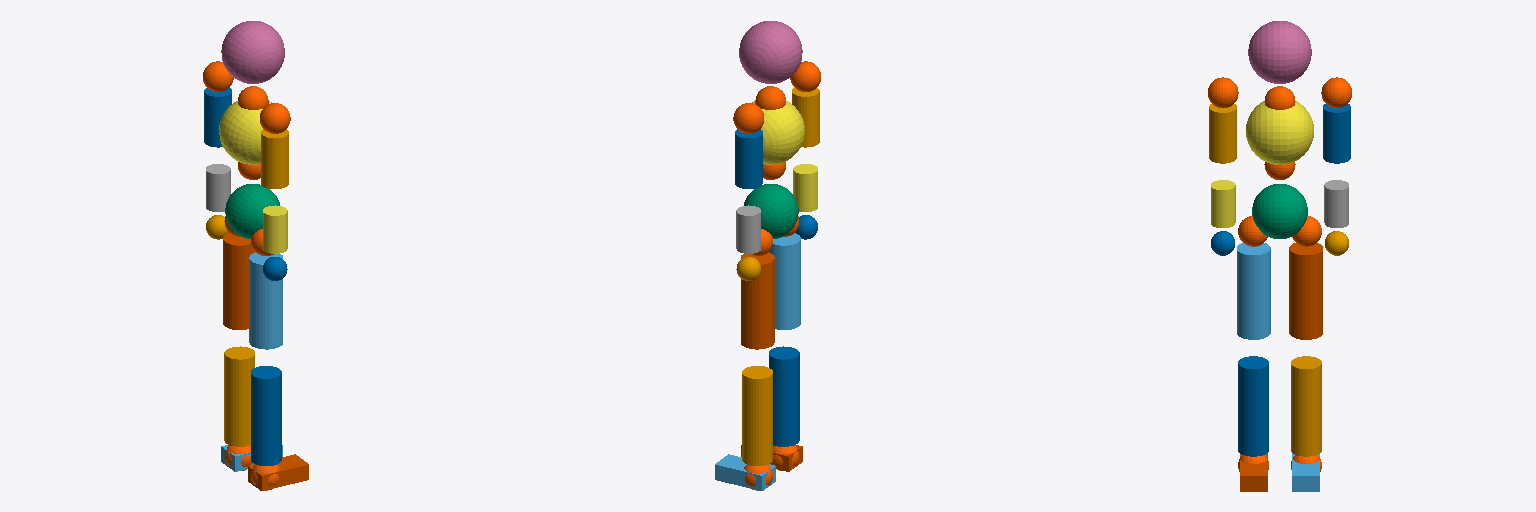
URDF robot description (dumpUrdf):
<?xml version="1.0" encoding="utf-8"?>
<!-- =================================================================================== -->
<!-- |    This document was autogenerated by xacro from humanoid.xacro                 | -->
<!-- |    EDITING THIS FILE BY HAND IS NOT RECOMMENDED                                 | -->
<!-- =================================================================================== -->
<robot name="dumpUrdf">
  <material name="orange">
    <color rgba="1.0 0.423529411765 0.0392156862745 1.0"/>
  </material>
  <link name="base_link">
    </link>
  <link name="base">
    </link>
  <joint name="base_base_link_rotation" type="fixed">
    <parent link="base_link"/>
    <child link="base"/>
    <origin rpy="1.57079632679 0 0" xyz="0 0 0"/>
  </joint>
  <link name="root">
    <inertial>
      <origin rpy="0 0 0" xyz="0.0 0.07 0.0"/>
      <mass value="6.000000"/>
      <inertia ixx="0.019440000000000002" ixy="0" ixz="0" iyy="0.019440000000000002" iyz="0" izz="0.019440000000000002"/>
    </inertial>
    <collision>
      <origin rpy="0 0 0" xyz="0.000000 0.070000 0.000000"/>
      <geometry>
        <sphere radius="0.09"/>
      </geometry>
    </collision>
    <visual>
      <origin rpy="0 0 0" xyz="0.000000 0.070000 0.000000"/>
      <geometry>
        <sphere radius="0.09"/>
      </geometry>
    </visual>
  </link>
  <joint name="root" type="fixed">
    <parent link="base"/>
    <child link="root"/>
    <origin rpy="0 0 0" xyz="0 0.000000 0.000000"/>
  </joint>
  <link name="chest">
    <inertial>
      <origin rpy="0 0 0" xyz="0.000000 0.120000 0.000000"/>
      <mass value="14.000000"/>
      <inertia ixx="0.06776000000000001" ixy="0" ixz="0" iyy="0.06776000000000001" iyz="0" izz="0.06776000000000001"/>
    </inertial>
    <collision>
      <origin rpy="0 0 0" xyz="0.000000 0.120000 0.000000"/>
      <geometry>
        <sphere radius="0.11"/>
      </geometry>
    </collision>
    <visual>
      <origin rpy="0 0 0" xyz="0.000000 0.120000 0.000000"/>
      <geometry>
        <sphere radius="0.11"/>
      </geometry>
    </visual>
  </link>
  <link name="root_chest_link1">
    <inertial>
      <mass value="1e-02"/>
      <inertia ixx="1e-02" ixy="0" ixz="0" iyy="1e-02" iyz="0" izz="1e-02"/>
    </inertial>
  </link>
  <joint name="root_chest_joint1" type="revolute">
    <origin rpy="0 0 0" xyz="0.000000 0.236151 0.000000"/>
    <parent link="root"/>
    <child link="root_chest_link1"/>
    <axis xyz="1 0 0"/>
    <limit effort="200" lower="-1.2" upper="1.2" velocity="3"/>
  </joint>
  <link name="root_chest_link2">
    <inertial>
      <mass value="1e-02"/>
      <inertia ixx="1e-02" ixy="0" ixz="0" iyy="1e-02" iyz="0" izz="1e-02"/>
    </inertial>
    <visual>
      <geometry>
        <sphere radius="0.05"/>
      </geometry>
      <material name="orange"/>
    </visual>
  </link>
  <joint name="root_chest_joint2" type="revolute">
    <parent link="root_chest_link1"/>
    <child link="root_chest_link2"/>
    <axis xyz="0 1 0"/>
    <limit effort="200" lower="-1.2" upper="1.2" velocity="3"/>
  </joint>
  <joint name="root_chest_joint3" type="revolute">
    <parent link="root_chest_link2"/>
    <child link="chest"/>
    <axis xyz="0 0 1"/>
    <limit effort="200" lower="-1.2" upper="1.2" velocity="3"/>
  </joint>
  <link name="neck">
    <inertial>
      <origin rpy="0 0 0" xyz="0.0 0.175 0.0"/>
      <mass value="2.000000"/>
      <inertia ixx="0.008405" ixy="0" ixz="0" iyy="0.008405" iyz="0" izz="0.008405"/>
    </inertial>
    <collision>
      <origin rpy="0 0 0" xyz="0.0 0.175 0.0"/>
      <geometry>
        <sphere radius="0.1025"/>
      </geometry>
    </collision>
    <visual>
      <origin rpy="0 0 0" xyz="0.0 0.175 0.0"/>
      <geometry>
        <sphere radius="0.1025"/>
      </geometry>
    </visual>
  </link>
  <link name="chest_neck_link1">
    <inertial>
      <mass value="1e-02"/>
      <inertia ixx="1e-02" ixy="0" ixz="0" iyy="1e-02" iyz="0" izz="1e-02"/>
    </inertial>
  </link>
  <joint name="chest_neck_joint1" type="revolute">
    <origin rpy="0 0 0" xyz="0.000000 0.223894 0.000000"/>
    <parent link="chest"/>
    <child link="chest_neck_link1"/>
    <axis xyz="1 0 0"/>
    <limit effort="50" lower="-1" upper="1" velocity="3"/>
  </joint>
  <link name="chest_neck_link2">
    <inertial>
      <mass value="1e-02"/>
      <inertia ixx="1e-02" ixy="0" ixz="0" iyy="1e-02" iyz="0" izz="1e-02"/>
    </inertial>
    <visual>
      <geometry>
        <sphere radius="0.05"/>
      </geometry>
      <material name="orange"/>
    </visual>
  </link>
  <joint name="chest_neck_joint2" type="revolute">
    <parent link="chest_neck_link1"/>
    <child link="chest_neck_link2"/>
    <axis xyz="0 1 0"/>
    <limit effort="50" lower="-1" upper="1" velocity="3"/>
  </joint>
  <joint name="chest_neck_joint3" type="revolute">
    <parent link="chest_neck_link2"/>
    <child link="neck"/>
    <axis xyz="0 0 1"/>
    <limit effort="50" lower="-1" upper="1" velocity="3"/>
  </joint>
  <link name="right_hip">
    <inertial>
      <origin rpy="0 0 0" xyz="0.000000 -0.210000 0.000000"/>
      <mass value="4.500000"/>
      <inertia ixx="0.037153124999999995" ixy="0.0" ixz="0.0" iyy="0.037153124999999995" iyz="0.0" izz="0.00680625"/>
    </inertial>
    <collision>
      <origin rpy="1.57079632679 0 0" xyz="0.000000 -0.210000 0.000000"/>
      <geometry>
        <cylinder length="0.225" radius="0.0275"/>
      </geometry>
    </collision>
    <visual>
      <origin rpy="1.57079632679 0 0" xyz="0.000000 -0.210000 0.000000"/>
      <geometry>
        <cylinder length="0.3" radius="0.055"/>
      </geometry>
    </visual>
  </link>
  <link name="root_right_hip_link1">
    <inertial>
      <mass value="1e-02"/>
      <inertia ixx="1e-02" ixy="0" ixz="0" iyy="1e-02" iyz="0" izz="1e-02"/>
    </inertial>
  </link>
  <joint name="root_right_hip_joint1" type="revolute">
    <origin rpy="0 0 0" xyz="0.000000 0.000000 0.084887"/>
    <parent link="root"/>
    <child link="root_right_hip_link1"/>
    <axis xyz="1 0 0"/>
    <limit effort="200" lower="-1.5" upper="1.5" velocity="3"/>
  </joint>
  <link name="root_right_hip_link2">
    <inertial>
      <mass value="1e-02"/>
      <inertia ixx="1e-02" ixy="0" ixz="0" iyy="1e-02" iyz="0" izz="1e-02"/>
    </inertial>
    <visual>
      <geometry>
        <sphere radius="0.05"/>
      </geometry>
      <material name="orange"/>
    </visual>
  </link>
  <joint name="root_right_hip_joint2" type="revolute">
    <parent link="root_right_hip_link1"/>
    <child link="root_right_hip_link2"/>
    <axis xyz="0 1 0"/>
    <limit effort="200" lower="-1.5" upper="1.5" velocity="3"/>
  </joint>
  <joint name="root_right_hip_joint3" type="revolute">
    <parent link="root_right_hip_link2"/>
    <child link="right_hip"/>
    <axis xyz="0 0 1"/>
    <limit effort="200" lower="-1.5" upper="1.5" velocity="3"/>
  </joint>
  <link name="right_knee">
    <inertial>
      <origin rpy="0 0 0" xyz="0.000000 -0.200000 0.000000"/>
      <mass value="3.000000"/>
      <inertia ixx="0.1" ixy="0" ixz="0" iyy="0.1" iyz="0" izz="0.1"/>
    </inertial>
    <collision>
      <origin rpy="1.57079632679 0 0" xyz="0.000000 -0.200000 0.000000"/>
      <geometry>
        <cylinder length="0.2325" radius="0.025"/>
      </geometry>
    </collision>
    <visual>
      <origin rpy="1.57079632679 0 0" xyz="0.000000 -0.200000 0.000000"/>
      <geometry>
        <cylinder length="0.31" radius="0.05"/>
      </geometry>
    </visual>
  </link>
  <joint name="right_knee" type="revolute">
    <parent link="right_hip"/>
    <child link="right_knee"/>
    <limit effort="150.0" lower="-3.14" upper="0." velocity="0.5"/>
    <origin rpy="0 0 0" xyz="0.000000 -0.421546 0.000000"/>
    <axis xyz="0.000000 0.000000 1.000000"/>
  </joint>
  <link name="right_ankle">
    <inertial>
      <origin rpy="0 0 0" xyz="0.045 -0.00225 0.000000"/>
      <mass value="1.000000"/>
      <inertia ixx="0.0009270833333333333" ixy="0.0" ixz="0.0" iyy="0.0028628333333333327" iyz="0.0" izz="0.003285749999999999"/>
    </inertial>
    <collision>
      <origin rpy="0 0 0" xyz="0.045 -0.00225 0.000000"/>
      <geometry>
        <box size="0.177 0.055 0.09"/>
      </geometry>
    </collision>
    <visual>
      <origin rpy="0 0 0" xyz="0.045 -0.00225 0.000000"/>
      <geometry>
        <box size="0.177 0.055 0.09"/>
      </geometry>
    </visual>
  </link>
  <link name="right_knee_right_ankle_link1">
    <inertial>
      <mass value="1e-02"/>
      <inertia ixx="1e-02" ixy="0" ixz="0" iyy="1e-02" iyz="0" izz="1e-02"/>
    </inertial>
  </link>
  <joint name="right_knee_right_ankle_joint1" type="revolute">
    <origin rpy="0 0 0" xyz="0.000000 -0.409870 0.000000"/>
    <parent link="right_knee"/>
    <child link="right_knee_right_ankle_link1"/>
    <axis xyz="1 0 0"/>
    <limit effort="90" lower="-1.2" upper="1.2" velocity="3"/>
  </joint>
  <link name="right_knee_right_ankle_link2">
    <inertial>
      <mass value="1e-02"/>
      <inertia ixx="1e-02" ixy="0" ixz="0" iyy="1e-02" iyz="0" izz="1e-02"/>
    </inertial>
    <visual>
      <geometry>
        <sphere radius="0.05"/>
      </geometry>
      <material name="orange"/>
    </visual>
  </link>
  <joint name="right_knee_right_ankle_joint2" type="revolute">
    <parent link="right_knee_right_ankle_link1"/>
    <child link="right_knee_right_ankle_link2"/>
    <axis xyz="0 1 0"/>
    <limit effort="90" lower="-1.2" upper="1.2" velocity="3"/>
  </joint>
  <joint name="right_knee_right_ankle_joint3" type="revolute">
    <parent link="right_knee_right_ankle_link2"/>
    <child link="right_ankle"/>
    <axis xyz="0 0 1"/>
    <limit effort="90" lower="-1.2" upper="1.2" velocity="3"/>
  </joint>
  <link name="right_shoulder">
    <inertial>
      <origin rpy="0 0 0" xyz="0.000000 -0.140000 0.000000"/>
      <mass value="1.500000"/>
      <inertia ixx="0.004809374999999999" ixy="0.0" ixz="0.0" iyy="0.004809374999999999" iyz="0.0" izz="0.0015187500000000001"/>
    </inertial>
    <collision>
      <origin rpy="1.57079632679 0 0" xyz="0.000000 -0.140000 0.000000"/>
      <geometry>
        <cylinder length="0.135" radius="0.0225"/>
      </geometry>
    </collision>
    <visual>
      <origin rpy="1.57079632679 0 0" xyz="0.000000 -0.140000 0.000000"/>
      <geometry>
        <cylinder length="0.18" radius="0.045"/>
      </geometry>
    </visual>
  </link>
  <link name="chest_right_shoulder_link1">
    <inertial>
      <mass value="1e-02"/>
      <inertia ixx="1e-02" ixy="0" ixz="0" iyy="1e-02" iyz="0" izz="1e-02"/>
    </inertial>
  </link>
  <joint name="chest_right_shoulder_joint1" type="revolute">
    <origin rpy="0 0 0" xyz="-0.02406 0.24350 0.18311"/>
    <parent link="chest"/>
    <child link="chest_right_shoulder_link1"/>
    <axis xyz="1 0 0"/>
    <limit effort="100" lower="-3.14" upper="3.14" velocity="3"/>
  </joint>
  <link name="chest_right_shoulder_link2">
    <inertial>
      <mass value="1e-02"/>
      <inertia ixx="1e-02" ixy="0" ixz="0" iyy="1e-02" iyz="0" izz="1e-02"/>
    </inertial>
    <visual>
      <geometry>
        <sphere radius="0.05"/>
      </geometry>
      <material name="orange"/>
    </visual>
  </link>
  <joint name="chest_right_shoulder_joint2" type="revolute">
    <parent link="chest_right_shoulder_link1"/>
    <child link="chest_right_shoulder_link2"/>
    <axis xyz="0 1 0"/>
    <limit effort="100" lower="-3.14" upper="3.14" velocity="3"/>
  </joint>
  <joint name="chest_right_shoulder_joint3" type="revolute">
    <parent link="chest_right_shoulder_link2"/>
    <child link="right_shoulder"/>
    <axis xyz="0 0 1"/>
    <limit effort="100" lower="-3.14" upper="3.14" velocity="3"/>
  </joint>
  <link name="right_elbow">
    <inertial>
      <origin rpy="0 0 0" xyz="0.000000 -0.120000 0.000000"/>
      <mass value="1.000000"/>
      <inertia ixx="0.0019187499999999999" ixy="0.0" ixz="0.0" iyy="0.0019187499999999999" iyz="0.0" izz="0.0008"/>
    </inertial>
    <collision>
      <origin rpy="1.57079632679 0 0" xyz="0.0 -0.12 0.0"/>
      <geometry>
        <cylinder length="0.10125" radius="0.02"/>
      </geometry>
    </collision>
    <visual>
      <origin rpy="1.57079632679 0 0" xyz="0.0 -0.12 0.0"/>
      <geometry>
        <cylinder length="0.135" radius="0.04"/>
      </geometry>
    </visual>
  </link>
  <joint name="right_elbow" type="revolute">
    <parent link="right_shoulder"/>
    <child link="right_elbow"/>
    <limit effort="60.0" lower="0" upper="3.14" velocity="0.5"/>
    <origin rpy="0 0 0" xyz="0.000000 -0.274788 0.000000"/>
    <axis xyz="0.000000 0.000000 1.000000"/>
  </joint>
  <link name="right_wrist">
    <inertial>
      <origin rpy="0 0 0" xyz="0.000000 0.000000 0.000000"/>
      <mass value="0.500000"/>
      <inertia ixx="0.00032" ixy="0" ixz="0" iyy="0.00032" iyz="0" izz="0.00032"/>
    </inertial>
    <collision>
      <origin rpy="0 0 0" xyz="0.000000 0.000000 0.000000"/>
      <geometry>
        <sphere radius="0.04"/>
      </geometry>
    </collision>
    <visual>
      <origin rpy="0 0 0" xyz="0.000000 0.000000 0.000000"/>
      <geometry>
        <sphere radius="0.04"/>
      </geometry>
    </visual>
  </link>
  <joint name="right_wrist" type="fixed">
    <parent link="right_elbow"/>
    <child link="right_wrist"/>
    <origin rpy="0 0 0" xyz="0.000000 -0.258947 0.000000"/>
  </joint>
  <link name="left_hip">
    <inertial>
      <origin rpy="0 0 0" xyz="0.000000 -0.210000 0.000000"/>
      <mass value="4.500000"/>
      <inertia ixx="0.037153124999999995" ixy="0.0" ixz="0.0" iyy="0.037153124999999995" iyz="0.0" izz="0.00680625"/>
    </inertial>
    <collision>
      <origin rpy="1.57079632679 0 0" xyz="0.000000 -0.210000 0.000000"/>
      <geometry>
        <cylinder length="0.225" radius="0.0275"/>
      </geometry>
    </collision>
    <visual>
      <origin rpy="1.57079632679 0 0" xyz="0.000000 -0.210000 0.000000"/>
      <geometry>
        <cylinder length="0.3" radius="0.055"/>
      </geometry>
    </visual>
  </link>
  <link name="root_left_hip_link1">
    <inertial>
      <mass value="1e-02"/>
      <inertia ixx="1e-02" ixy="0" ixz="0" iyy="1e-02" iyz="0" izz="1e-02"/>
    </inertial>
  </link>
  <joint name="root_left_hip_joint1" type="revolute">
    <origin rpy="0 0 0" xyz="0.000000 0.000000 -0.084887"/>
    <parent link="root"/>
    <child link="root_left_hip_link1"/>
    <axis xyz="1 0 0"/>
    <limit effort="200" lower="-1.5" upper="1.5" velocity="3"/>
  </joint>
  <link name="root_left_hip_link2">
    <inertial>
      <mass value="1e-02"/>
      <inertia ixx="1e-02" ixy="0" ixz="0" iyy="1e-02" iyz="0" izz="1e-02"/>
    </inertial>
    <visual>
      <geometry>
        <sphere radius="0.05"/>
      </geometry>
      <material name="orange"/>
    </visual>
  </link>
  <joint name="root_left_hip_joint2" type="revolute">
    <parent link="root_left_hip_link1"/>
    <child link="root_left_hip_link2"/>
    <axis xyz="0 1 0"/>
    <limit effort="200" lower="-1.5" upper="1.5" velocity="3"/>
  </joint>
  <joint name="root_left_hip_joint3" type="revolute">
    <parent link="root_left_hip_link2"/>
    <child link="left_hip"/>
    <axis xyz="0 0 1"/>
    <limit effort="200" lower="-1.5" upper="1.5" velocity="3"/>
  </joint>
  <link name="left_knee">
    <inertial>
      <origin rpy="0 0 0" xyz="0.000000 -0.200000 0.000000"/>
      <mass value="3.000000"/>
      <inertia ixx="0.025900000000000003" ixy="0.0" ixz="0.0" iyy="0.025900000000000003" iyz="0.0" izz="0.0037500000000000007"/>
    </inertial>
    <collision>
      <origin rpy="1.57079632679 0 0" xyz="0.000000 -0.200000 0.000000"/>
      <geometry>
        <cylinder length="0.2325" radius="0.025"/>
      </geometry>
    </collision>
    <visual>
      <origin rpy="1.57079632679 0 0" xyz="0.000000 -0.200000 0.000000"/>
      <geometry>
        <cylinder length="0.31" radius="0.05"/>
      </geometry>
    </visual>
  </link>
  <joint name="left_knee" type="revolute">
    <parent link="left_hip"/>
    <child link="left_knee"/>
    <limit effort="150.0" lower="-3.14" upper="0." velocity="0.5"/>
    <origin rpy="0 0 0" xyz="0.000000 -0.421546 0.000000"/>
    <axis xyz="0.000000 0.000000 1.000000"/>
  </joint>
  <link name="left_ankle">
    <inertial>
      <origin rpy="0 0 0" xyz="0.045 -0.00225 0.0"/>
      <mass value="1.000000"/>
      <inertia ixx="0.0009270833333333333" ixy="0.0" ixz="0.0" iyy="0.0028628333333333327" iyz="0.0" izz="0.003285749999999999"/>
    </inertial>
    <collision>
      <origin rpy="0 0 0" xyz="0.045 -0.00225 0.0"/>
      <geometry>
        <box size="0.177 0.055 0.09"/>
      </geometry>
    </collision>
    <visual>
      <origin rpy="0 0 0" xyz="0.045 -0.00225 0.0"/>
      <geometry>
        <box size="0.177 0.055 0.09"/>
      </geometry>
    </visual>
  </link>
  <link name="left_knee_left_ankle_link1">
    <inertial>
      <mass value="1e-02"/>
      <inertia ixx="1e-02" ixy="0" ixz="0" iyy="1e-02" iyz="0" izz="1e-02"/>
    </inertial>
  </link>
  <joint name="left_knee_left_ankle_joint1" type="revolute">
    <origin rpy="0 0 0" xyz="0.000000 -0.40987 0.000000"/>
    <parent link="left_knee"/>
    <child link="left_knee_left_ankle_link1"/>
    <axis xyz="1 0 0"/>
    <limit effort="90" lower="-1.2" upper="1.2" velocity="3"/>
  </joint>
  <link name="left_knee_left_ankle_link2">
    <inertial>
      <mass value="1e-02"/>
      <inertia ixx="1e-02" ixy="0" ixz="0" iyy="1e-02" iyz="0" izz="1e-02"/>
    </inertial>
    <visual>
      <geometry>
        <sphere radius="0.05"/>
      </geometry>
      <material name="orange"/>
    </visual>
  </link>
  <joint name="left_knee_left_ankle_joint2" type="revolute">
    <parent link="left_knee_left_ankle_link1"/>
    <child link="left_knee_left_ankle_link2"/>
    <axis xyz="0 1 0"/>
    <limit effort="90" lower="-1.2" upper="1.2" velocity="3"/>
  </joint>
  <joint name="left_knee_left_ankle_joint3" type="revolute">
    <parent link="left_knee_left_ankle_link2"/>
    <child link="left_ankle"/>
    <axis xyz="0 0 1"/>
    <limit effort="90" lower="-1.2" upper="1.2" velocity="3"/>
  </joint>
  <link name="left_shoulder">
    <inertial>
      <origin rpy="0 0 0" xyz="0.000000 -0.140000 0.000000"/>
      <mass value="1.500000"/>
      <inertia ixx="0.004809374999999999" ixy="0.0" ixz="0.0" iyy="0.004809374999999999" iyz="0.0" izz="0.0015187500000000001"/>
    </inertial>
    <collision>
      <origin rpy="1.57079632679 0 0" xyz="0.000000 -0.140000 0.000000"/>
      <geometry>
        <cylinder length="0.135" radius="0.0225"/>
      </geometry>
    </collision>
    <visual>
      <origin rpy="1.57079632679 0 0" xyz="0.000000 -0.140000 0.000000"/>
      <geometry>
        <cylinder length="0.18" radius="0.045"/>
      </geometry>
    </visual>
  </link>
  <link name="chest_left_shoulder_link1">
    <inertial>
      <mass value="1e-02"/>
      <inertia ixx="1e-02" ixy="0" ixz="0" iyy="1e-02" iyz="0" izz="1e-02"/>
    </inertial>
  </link>
  <joint name="chest_left_shoulder_joint1" type="revolute">
    <origin rpy="0 0 0" xyz="-0.02405 0.24350 -0.18311"/>
    <parent link="chest"/>
    <child link="chest_left_shoulder_link1"/>
    <axis xyz="1 0 0"/>
    <limit effort="100" lower="-3.14" upper="3.14" velocity="3"/>
  </joint>
  <link name="chest_left_shoulder_link2">
    <inertial>
      <mass value="1e-02"/>
      <inertia ixx="1e-02" ixy="0" ixz="0" iyy="1e-02" iyz="0" izz="1e-02"/>
    </inertial>
    <visual>
      <geometry>
        <sphere radius="0.05"/>
      </geometry>
      <material name="orange"/>
    </visual>
  </link>
  <joint name="chest_left_shoulder_joint2" type="revolute">
    <parent link="chest_left_shoulder_link1"/>
    <child link="chest_left_shoulder_link2"/>
    <axis xyz="0 1 0"/>
    <limit effort="100" lower="-3.14" upper="3.14" velocity="3"/>
  </joint>
  <joint name="chest_left_shoulder_joint3" type="revolute">
    <parent link="chest_left_shoulder_link2"/>
    <child link="left_shoulder"/>
    <axis xyz="0 0 1"/>
    <limit effort="100" lower="-3.14" upper="3.14" velocity="3"/>
  </joint>
  <link name="left_elbow">
    <inertial>
      <origin rpy="0 0 0" xyz="0.000000 -0.12 0.000000"/>
      <mass value="1.000000"/>
      <inertia ixx="0.0019187499999999999" ixy="0.0" ixz="0.0" iyy="0.0019187499999999999" iyz="0.0" izz="0.0008"/>
    </inertial>
    <collision>
      <origin rpy="1.57079632679 0 0" xyz="0.000000 -0.12 0.000000"/>
      <geometry>
        <cylinder length="0.10125" radius="0.02"/>
      </geometry>
    </collision>
    <visual>
      <origin rpy="1.57079632679 0 0" xyz="0.000000 -0.12 0.000000"/>
      <geometry>
        <cylinder length="0.135" radius="0.04"/>
      </geometry>
    </visual>
  </link>
  <joint name="left_elbow" type="revolute">
    <parent link="left_shoulder"/>
    <child link="left_elbow"/>
    <limit effort="60.0" lower="0" upper="3.14" velocity="0.5"/>
    <origin rpy="0 0 0" xyz="0.000000 -0.274788 0.000000"/>
    <axis xyz="0.000000 0.000000 1.000000"/>
  </joint>
  <link name="left_wrist">
    <inertial>
      <origin rpy="0 0 0" xyz="0.000000 0.000000 0.000000"/>
      <mass value="0.500000"/>
      <inertia ixx="0.00032" ixy="0" ixz="0" iyy="0.00032" iyz="0" izz="0.00032"/>
    </inertial>
    <collision>
      <origin rpy="0 0 0" xyz="0.000000 0.000000 0.000000"/>
      <geometry>
        <sphere radius="0.04"/>
      </geometry>
    </collision>
    <visual>
      <origin rpy="0 0 0" xyz="0.000000 0.000000 0.000000"/>
      <geometry>
        <sphere radius="0.04"/>
      </geometry>
    </visual>
  </link>
  <joint name="left_wrist_joint" type="fixed">
    <parent link="left_elbow"/>
    <child link="left_wrist"/>
    <origin rpy="0 0 0" xyz="0.000000 -0.258947 0.000000"/>
  </joint>
</robot>

--- What the picture shows (computed from the rendered views, not written in the file) ---
The picture shows the robot from 3 angles, left to right: view 1: azimuth 30°, elevation 25°; view 2: azimuth 150°, elevation 25°; view 3: azimuth 270°, elevation 25°; orthographic projection.
Robot: dumpUrdf — 33 links, 32 joints (28 revolute, 4 fixed); root link base_link; default pose: all joints at 0.
Visible links, largest first — view 1: neck, right_knee, right_hip, left_knee, left_hip, chest, root, right_shoulder, right_elbow, left_shoulder, right_ankle, left_elbow (+3 smaller); view 2: neck, left_knee, left_hip, right_knee, right_hip, chest, root, left_shoulder, left_elbow, right_shoulder, left_ankle, right_elbow (+3 smaller); view 3: chest, right_hip, left_hip, neck, right_knee, left_knee, root, right_shoulder, left_shoulder, right_elbow, left_elbow, right_ankle (+6 smaller).
Boxes of the visible links, x1,y1,x2,y2 form: neck: [221, 21, 284, 83]; right_knee: [251, 366, 281, 465]; right_hip: [249, 252, 282, 349]; left_knee: [224, 346, 254, 446]; left_hip: [223, 233, 254, 329]; chest: [219, 101, 271, 164]; root: [225, 184, 279, 238]; right_shoulder: [261, 129, 288, 188]; right_elbow: [263, 205, 287, 253]; left_shoulder: [204, 87, 231, 147]; right_ankle: [248, 454, 308, 490]; left_elbow: [206, 164, 230, 211]; neck: [739, 21, 802, 83]; left_knee: [742, 366, 772, 465]; left_hip: [741, 252, 774, 349]; right_knee: [769, 346, 799, 446]; right_hip: [769, 233, 800, 329]; chest: [752, 101, 804, 164]; root: [744, 184, 798, 238]; left_shoulder: [735, 129, 762, 188]; left_elbow: [736, 205, 760, 253]; right_shoulder: [792, 87, 819, 147]; left_ankle: [715, 454, 775, 490]; right_elbow: [793, 164, 817, 211]; chest: [1246, 101, 1313, 164]; right_hip: [1237, 243, 1270, 339]; left_hip: [1289, 243, 1322, 339]; neck: [1248, 21, 1311, 83]; right_knee: [1238, 356, 1268, 456]; left_knee: [1291, 356, 1321, 456]; root: [1252, 184, 1307, 238]; right_shoulder: [1209, 104, 1236, 163]; left_shoulder: [1323, 104, 1350, 163]; right_elbow: [1211, 180, 1235, 227]; left_elbow: [1324, 180, 1348, 227]; right_ankle: [1240, 453, 1267, 491].
Size in the robot's own frame: 0.2435 by 0.4662 by 1.62 metres.
Geometry: primitives only (box / cylinder / sphere), no mesh files.